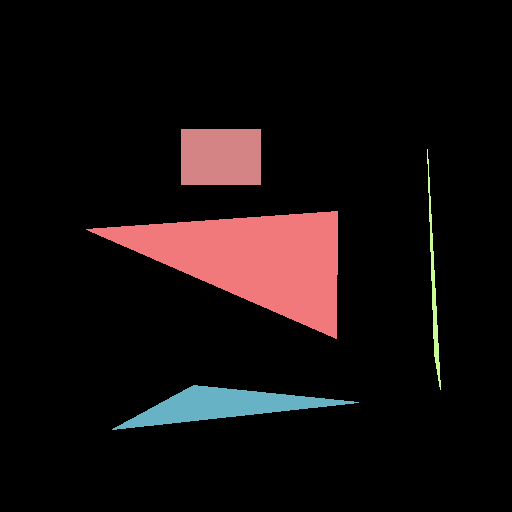rectangle: (181, 129, 260, 184)
triangle: (86, 211, 337, 338), (112, 385, 358, 429)
